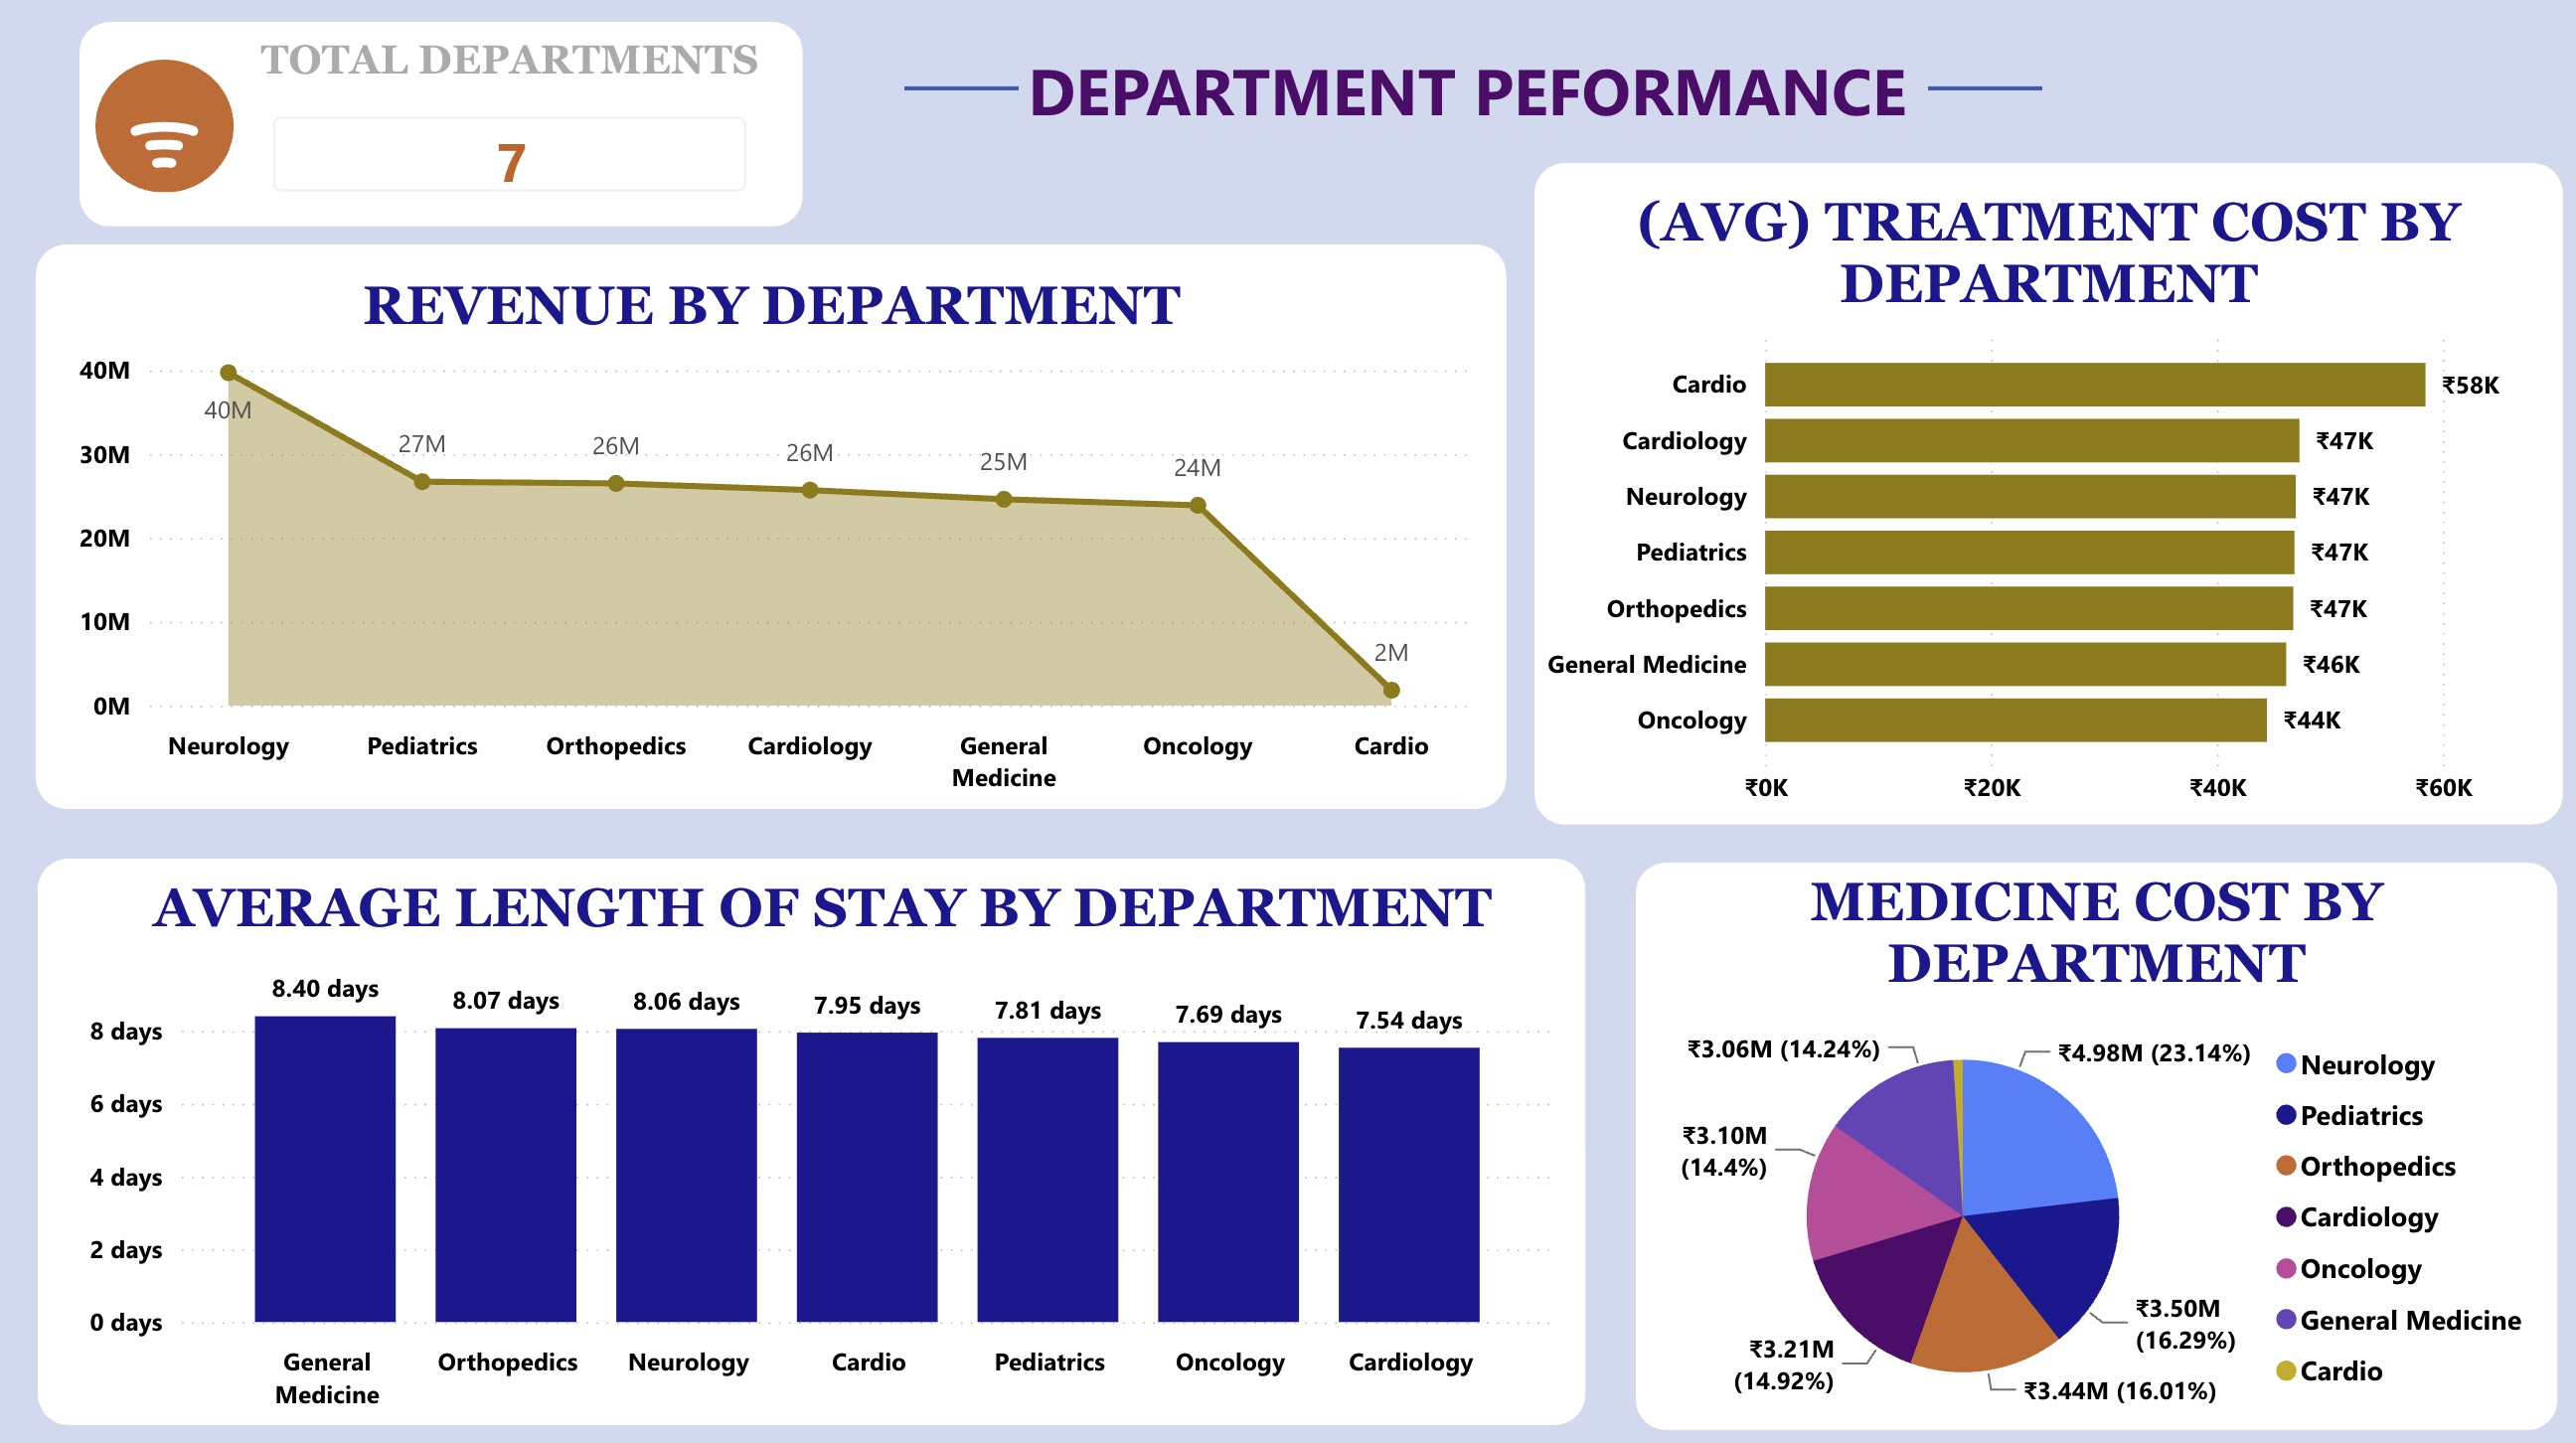

The page's visual inventory and layout, read from the dashboard file:
{"tool":"powerbi","page":{"name":"Page 3","canvas":[1280,720],"ordinal":2},"visuals":[{"type":"shape","title":"rev back","box":[762.4,85.2,508.3,327],"z":0},{"type":"shape","title":"rev back","box":[812,430.8,455.6,280.5],"z":1000},{"type":"shape","title":"rev back","box":[21.7,125.5,726.8,278.9],"z":2000},{"type":"shape","title":"rev back","box":[22.3,429.7,764.8,279.9],"z":3000},{"type":"shape","title":"rev back","box":[43.4,15.8,357.5,101.2],"z":4000},{"type":"textbox","box":[507.3,22.3,449.4,52.6],"z":5000},{"type":"cardVisual","title":"TOTAL DEPARTMENTS","fields":{"Data":["Count(sql_hospital.Department)"]},"box":[122.2,22.3,268.1,94.6],"z":6000},{"type":"columnChart","title":"AVERAGE LENGTH OF STAY BY DEPARTMENT","fields":{"Category":["sql_hospital.Department"],"Y":["Avg(sql_hospital.Length_of_Stay)"]},"box":[43.4,438.5,734.5,271.2],"z":7000},{"type":"lineChart","title":"REVENUE BY DEPARTMENT","fields":{"Category":["sql_hospital.Department"],"Y":["Sum(sql_hospital.Total_Bill)"]},"box":[28.9,140.6,713.6,264.1],"z":8000},{"type":"shape","box":[51.3,34.2,68.3,65.7],"z":9000},{"type":"shape","box":[956.7,11.8,56.5,73.6],"z":10000},{"type":"shape","box":[450.8,11.8,56.5,73.6],"z":11000},{"type":"clusteredBarChart","title":"(AVG) TREATMENT COST BY DEPARTMENT","fields":{"Category":["sql_hospital.Department"],"Y":["Avg(sql_hospital.Treatment_Cost)"]},"box":[762.4,99.2,508.3,313],"z":12000},{"type":"pieChart","title":"MEDICINE COST BY DEPARTMENT","fields":{"Category":["sql_hospital.Department"],"Y":["Sum(sql_hospital.Medicine_Cost)"]},"box":[815.1,435.4,449.4,280.5],"z":13000}]}

Visuals, with their boxes in screenshot pixels (x1, y1, x2, y2), scaled from the page's 1280x720 canvas onto the 2576x1443 screenshot:
"rev back" shape: BBox(1534, 171, 2557, 826)
"rev back" shape: BBox(1634, 864, 2551, 1425)
"rev back" shape: BBox(44, 251, 1507, 811)
"rev back" shape: BBox(45, 862, 1584, 1422)
"rev back" shape: BBox(87, 32, 807, 235)
textbox: BBox(1021, 45, 1925, 150)
"TOTAL DEPARTMENTS" cardVisual: BBox(245, 45, 785, 235)
"AVERAGE LENGTH OF STAY BY DEPARTMENT" columnChart: BBox(87, 879, 1565, 1422)
"REVENUE BY DEPARTMENT" lineChart: BBox(59, 282, 1495, 811)
shape: BBox(103, 69, 241, 200)
shape: BBox(1925, 24, 2039, 171)
shape: BBox(907, 24, 1021, 171)
"(AVG) TREATMENT COST BY DEPARTMENT" clusteredBarChart: BBox(1534, 199, 2557, 826)
"MEDICINE COST BY DEPARTMENT" pieChart: BBox(1641, 873, 2545, 1435)
